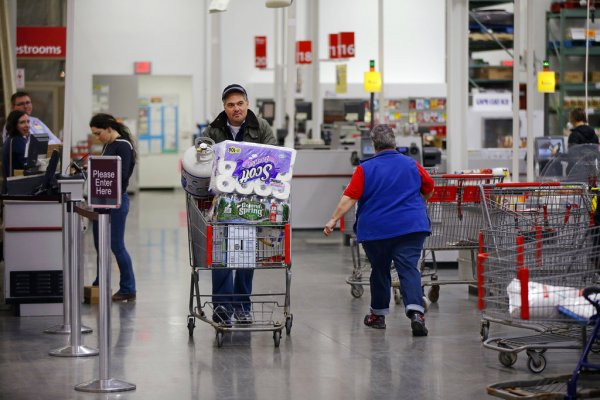Age_30_40: (90, 120, 119, 144), (11, 112, 30, 132)
Age_40_50: (222, 86, 251, 122), (373, 127, 396, 154), (15, 95, 34, 114)
E_White: (222, 86, 251, 122), (90, 120, 119, 144), (11, 112, 30, 132), (15, 95, 34, 114)
Emotion_Happy: (222, 86, 251, 122), (11, 112, 30, 132)
Emotion_Neutral: (90, 120, 119, 144), (15, 95, 34, 114)
G_ Female: (90, 120, 119, 144), (373, 127, 396, 154), (11, 112, 30, 132)
G_Male: (222, 86, 251, 122), (15, 95, 34, 114)
Not_Face: (373, 127, 396, 154), (570, 108, 587, 126)
